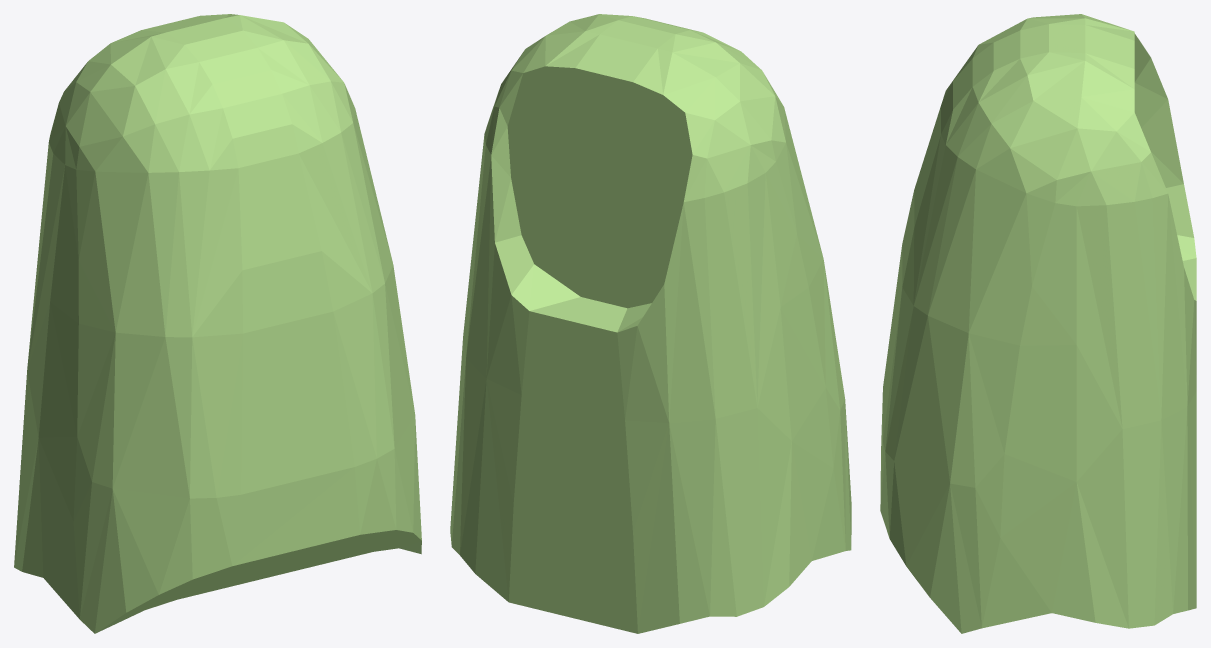
3 renders of one model, left to right at view 1: azimuth 30°, elevation 25°; view 2: azimuth 150°, elevation 25°; view 3: azimuth 270°, elevation 25°, orthographic.
Visible parts, largest first — view 1: distal; view 2: distal; view 3: distal.
Part boxes in pixels (bbox=[...]): distal: bbox=[14, 14, 421, 633]; distal: bbox=[450, 14, 851, 633]; distal: bbox=[880, 14, 1196, 633].
Bounding box in the file's own units: 17.67 × 14.5 × 27.26.
